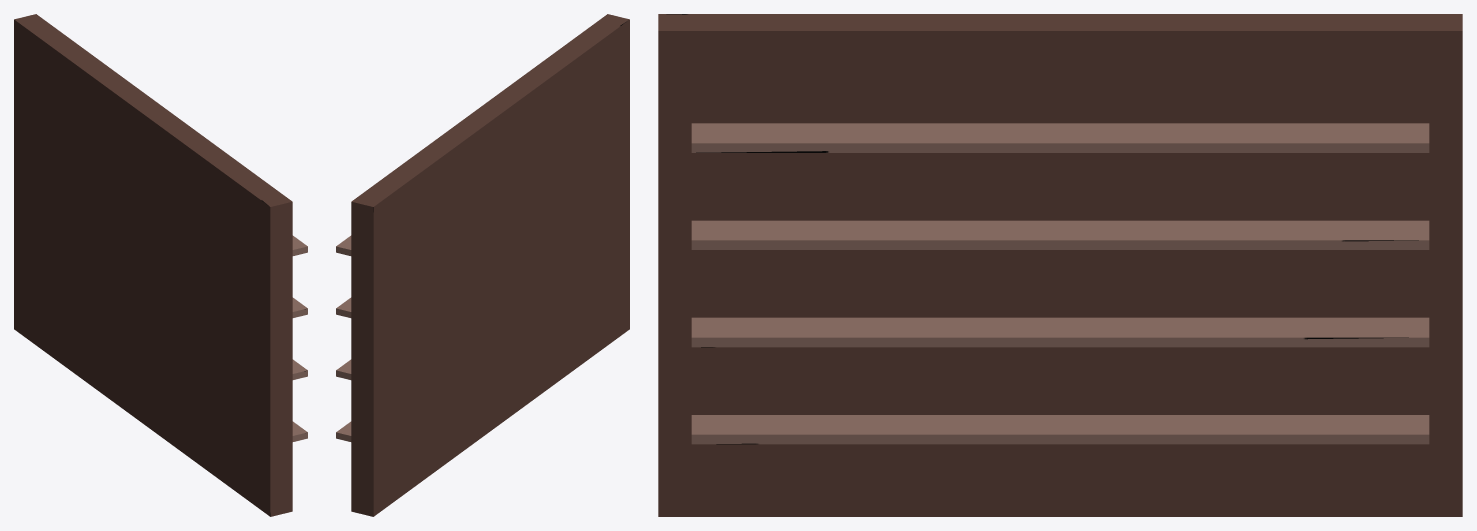
File: station-shelving-authored-atlas.glb
3 views of the same model, side by side, from view 1: azimuth 30°, elevation 25°; view 2: azimuth 150°, elevation 25°; view 3: azimuth 270°, elevation 25° (orthographic). The views are drawn at different scales.
Parts seen in each view (by area): view 1: Authored surface.029; view 2: Authored surface.029; view 3: Authored surface.029.
Boxes of the visible parts, x1,y1,x2,y2 form: Authored surface.029: (14,14,307,516); Authored surface.029: (336,14,629,516); Authored surface.029: (658,14,1462,516).
Bounding box in the file's own units: 0.65 × 4 × 6.
1 material, 1 textured.
